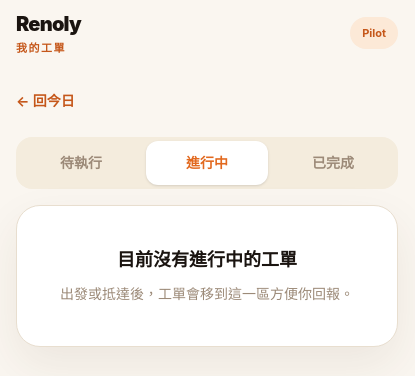
Test: TechnicianTaskList › switches to the 待執行 tab and lists an item with its status label
Expected: the heading "目前沒有進行中的工單" is shown, [117, 248, 297, 270]
Click the tab "待執行" at (81, 162), box [20, 140, 142, 184]
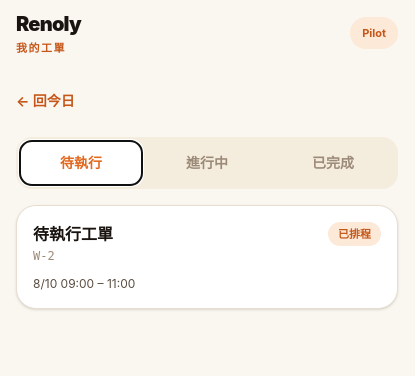
Now the text "待執行工單" is shown, box [33, 222, 113, 246]
Now the text "已排程" is shown, box [328, 222, 381, 246]
